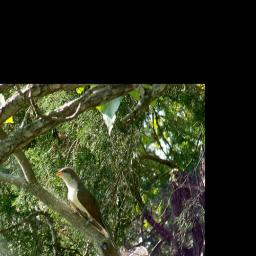Cuckoo: (54, 165, 122, 256)
